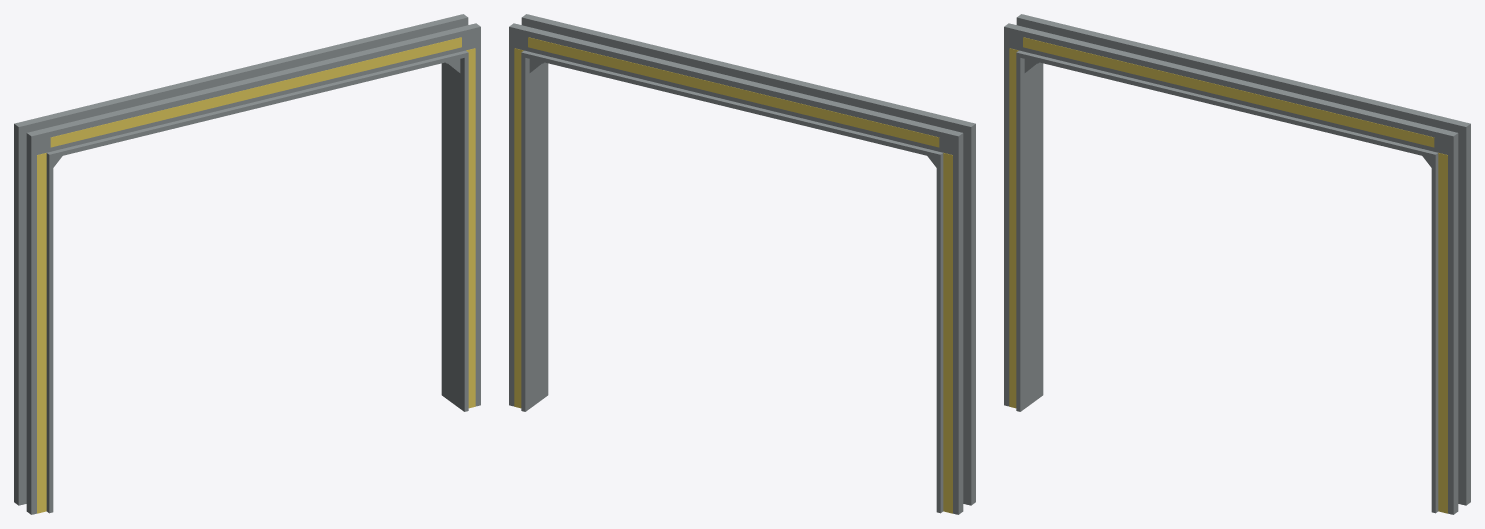
File: kit_wide_opening_frame.fbx
3 views of the same model, side by side, from view 1: azimuth 30°, elevation 25°; view 2: azimuth 150°, elevation 25°; view 3: azimuth 330°, elevation 25° (orthographic).
Parts seen in each view (by area): view 1: kit_wide_opening_frame; view 2: kit_wide_opening_frame; view 3: kit_wide_opening_frame.
Boxes of the visible parts, bbox=[...] form: kit_wide_opening_frame: bbox=[14, 14, 480, 514]; kit_wide_opening_frame: bbox=[509, 14, 975, 514]; kit_wide_opening_frame: bbox=[1004, 14, 1470, 514].
Bounding box in the file's own units: 3.28 × 2.64 × 0.29.
